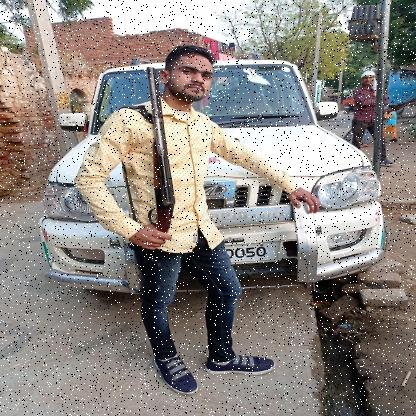rifle: (126, 66, 177, 250)
